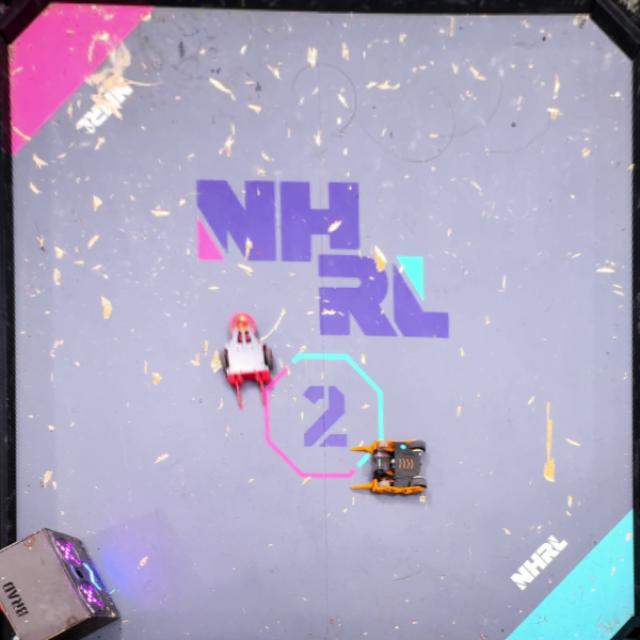housebot: (0, 523, 119, 640)
robot: (221, 310, 275, 411), (349, 438, 430, 500)
